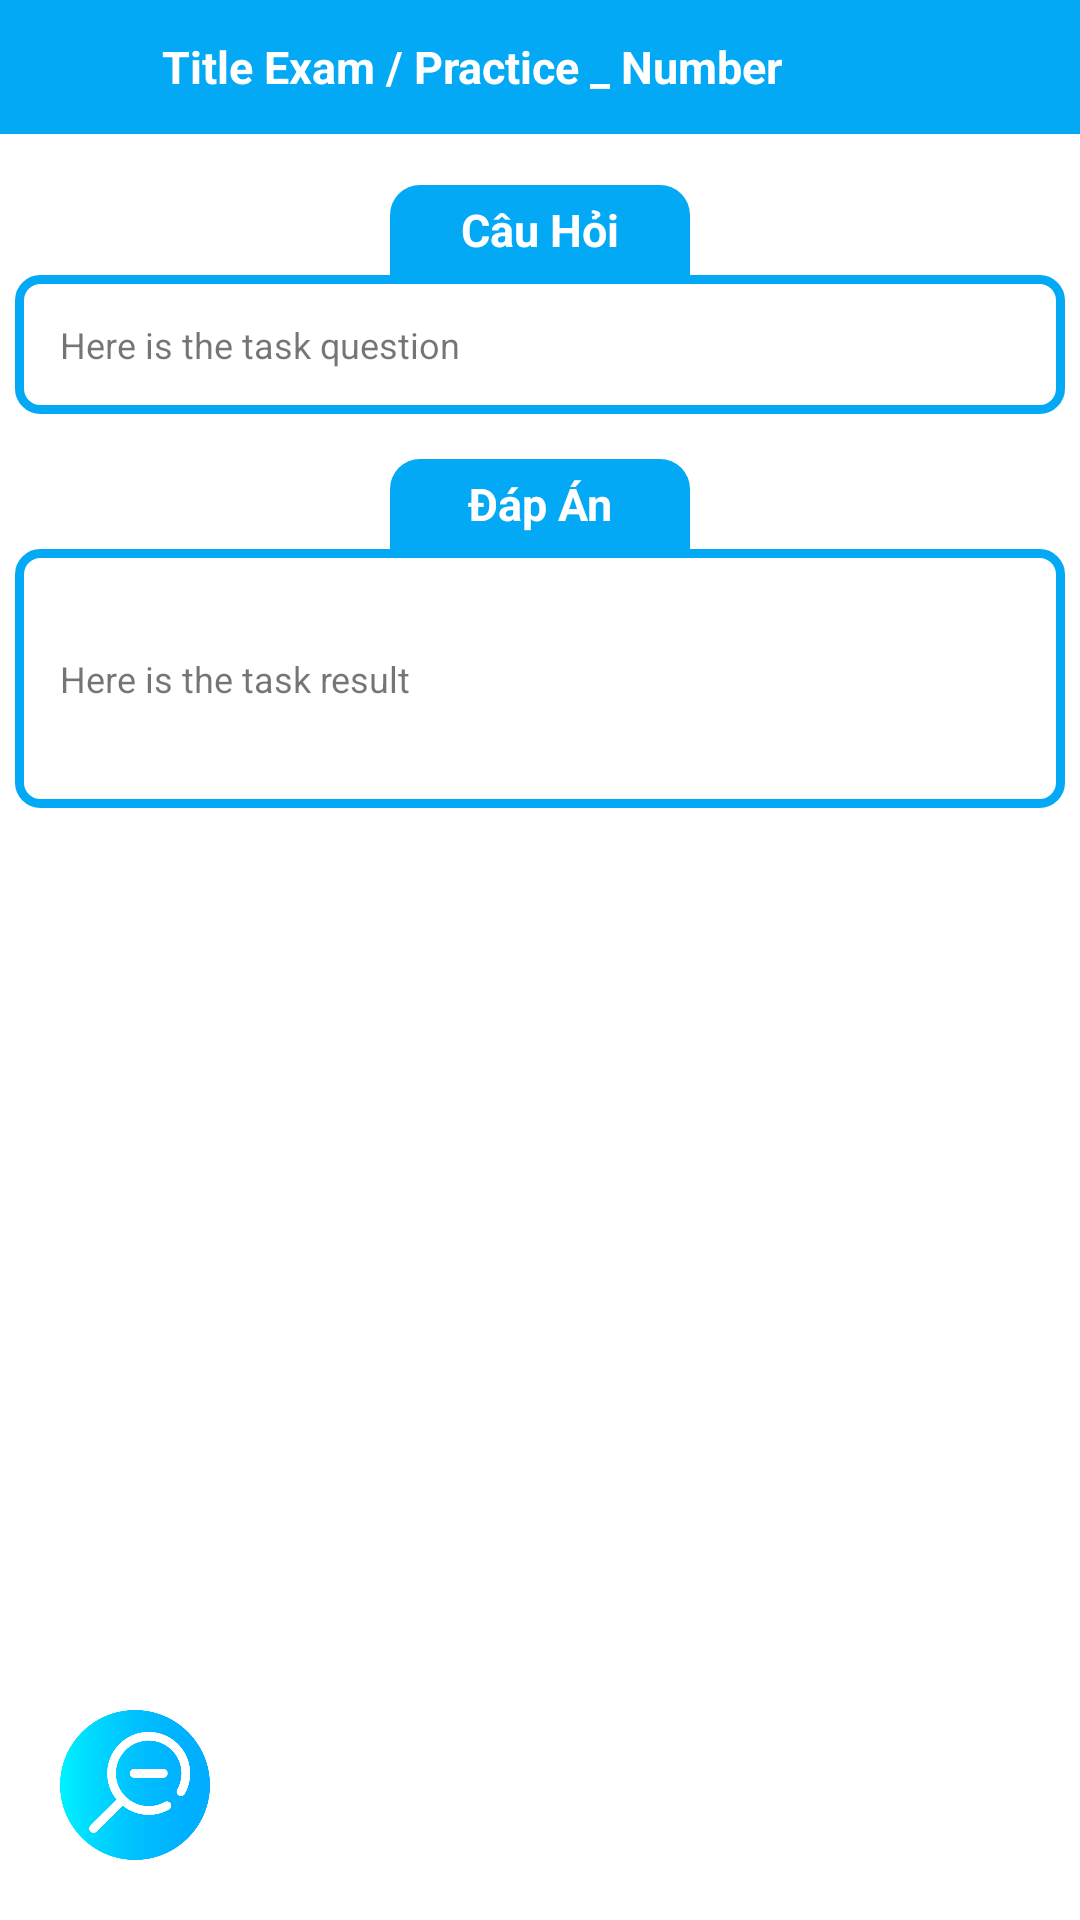

Where icons sit on this 1080×1920 app screen, as (x1, y1, x2, y2):
zoom: (60, 1710, 210, 1860)
